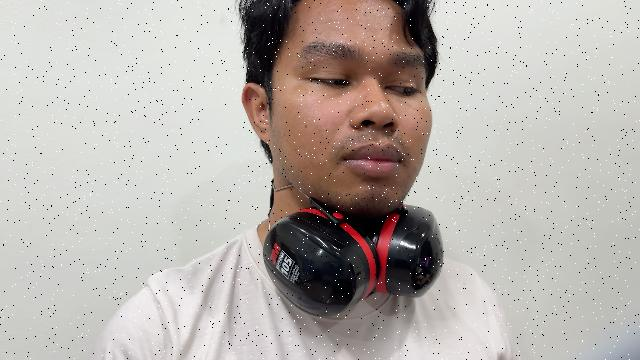headphones: (263, 197, 443, 316)
right_ear: (243, 84, 272, 148)
